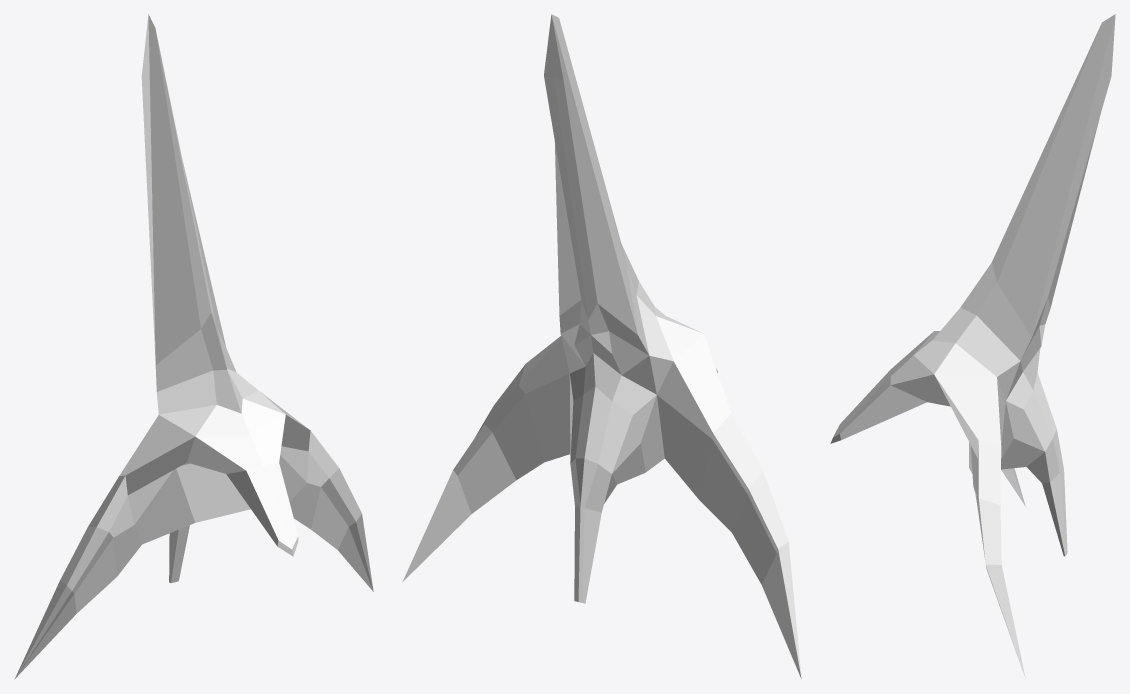
The model's file is head_38.fbx.
The picture shows the model from 3 angles, left to right: view 1: azimuth 30°, elevation 25°; view 2: azimuth 150°, elevation 25°; view 3: azimuth 270°, elevation 25°; orthographic projection. The views are drawn at different scales.
Visible parts, largest first — view 1: Cube.167; view 2: Cube.167; view 3: Cube.167.
Part boxes in pixels (box(x1,y1,x2,y2)): Cube.167: box(14, 14, 373, 679); Cube.167: box(402, 14, 801, 678); Cube.167: box(830, 14, 1115, 678).
Size of the model in its own units: 113 by 177 by 79.07.
